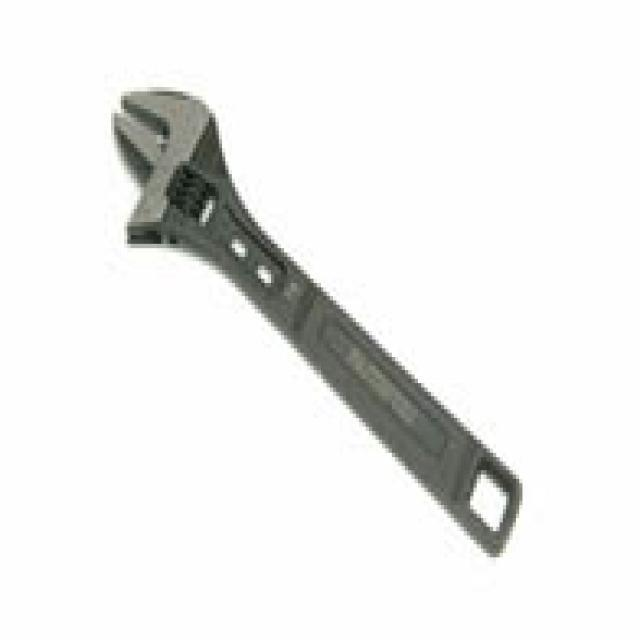wrench: (106, 77, 531, 570)
